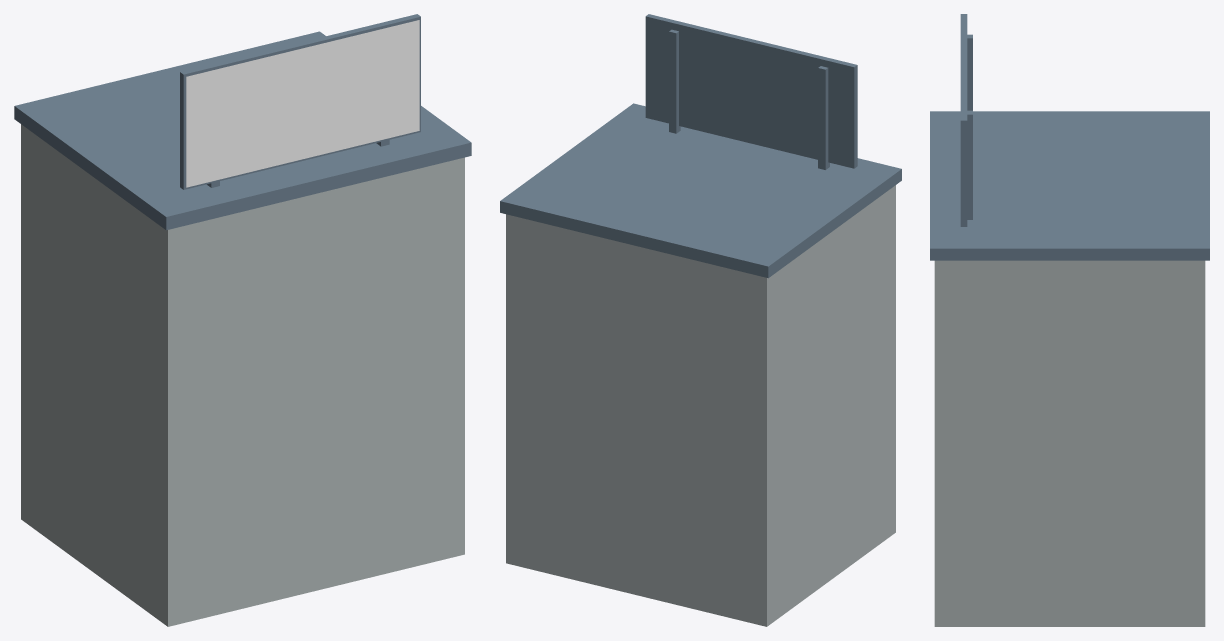
Rendered from building_rooftop_ad.glb.
The picture shows the model from 3 angles, left to right: view 1: azimuth 30°, elevation 25°; view 2: azimuth 150°, elevation 25°; view 3: azimuth 270°, elevation 25°; orthographic projection. The views are drawn at different scales.
Visible parts, largest first — view 1: Bldg_Rooftop_Ad_Struct, Ad_Screen_Bldg_Rooftop_Ad; view 2: Bldg_Rooftop_Ad_Struct; view 3: Bldg_Rooftop_Ad_Struct.
Boxes of the visible parts, box(x1,y1,x2,y2) form: Bldg_Rooftop_Ad_Struct: box(14, 14, 471, 626); Ad_Screen_Bldg_Rooftop_Ad: box(186, 20, 419, 187); Bldg_Rooftop_Ad_Struct: box(500, 14, 901, 626); Bldg_Rooftop_Ad_Struct: box(930, 14, 1209, 626).
Bounding box in the file's own units: 14.4 × 24.1 × 12.4.
